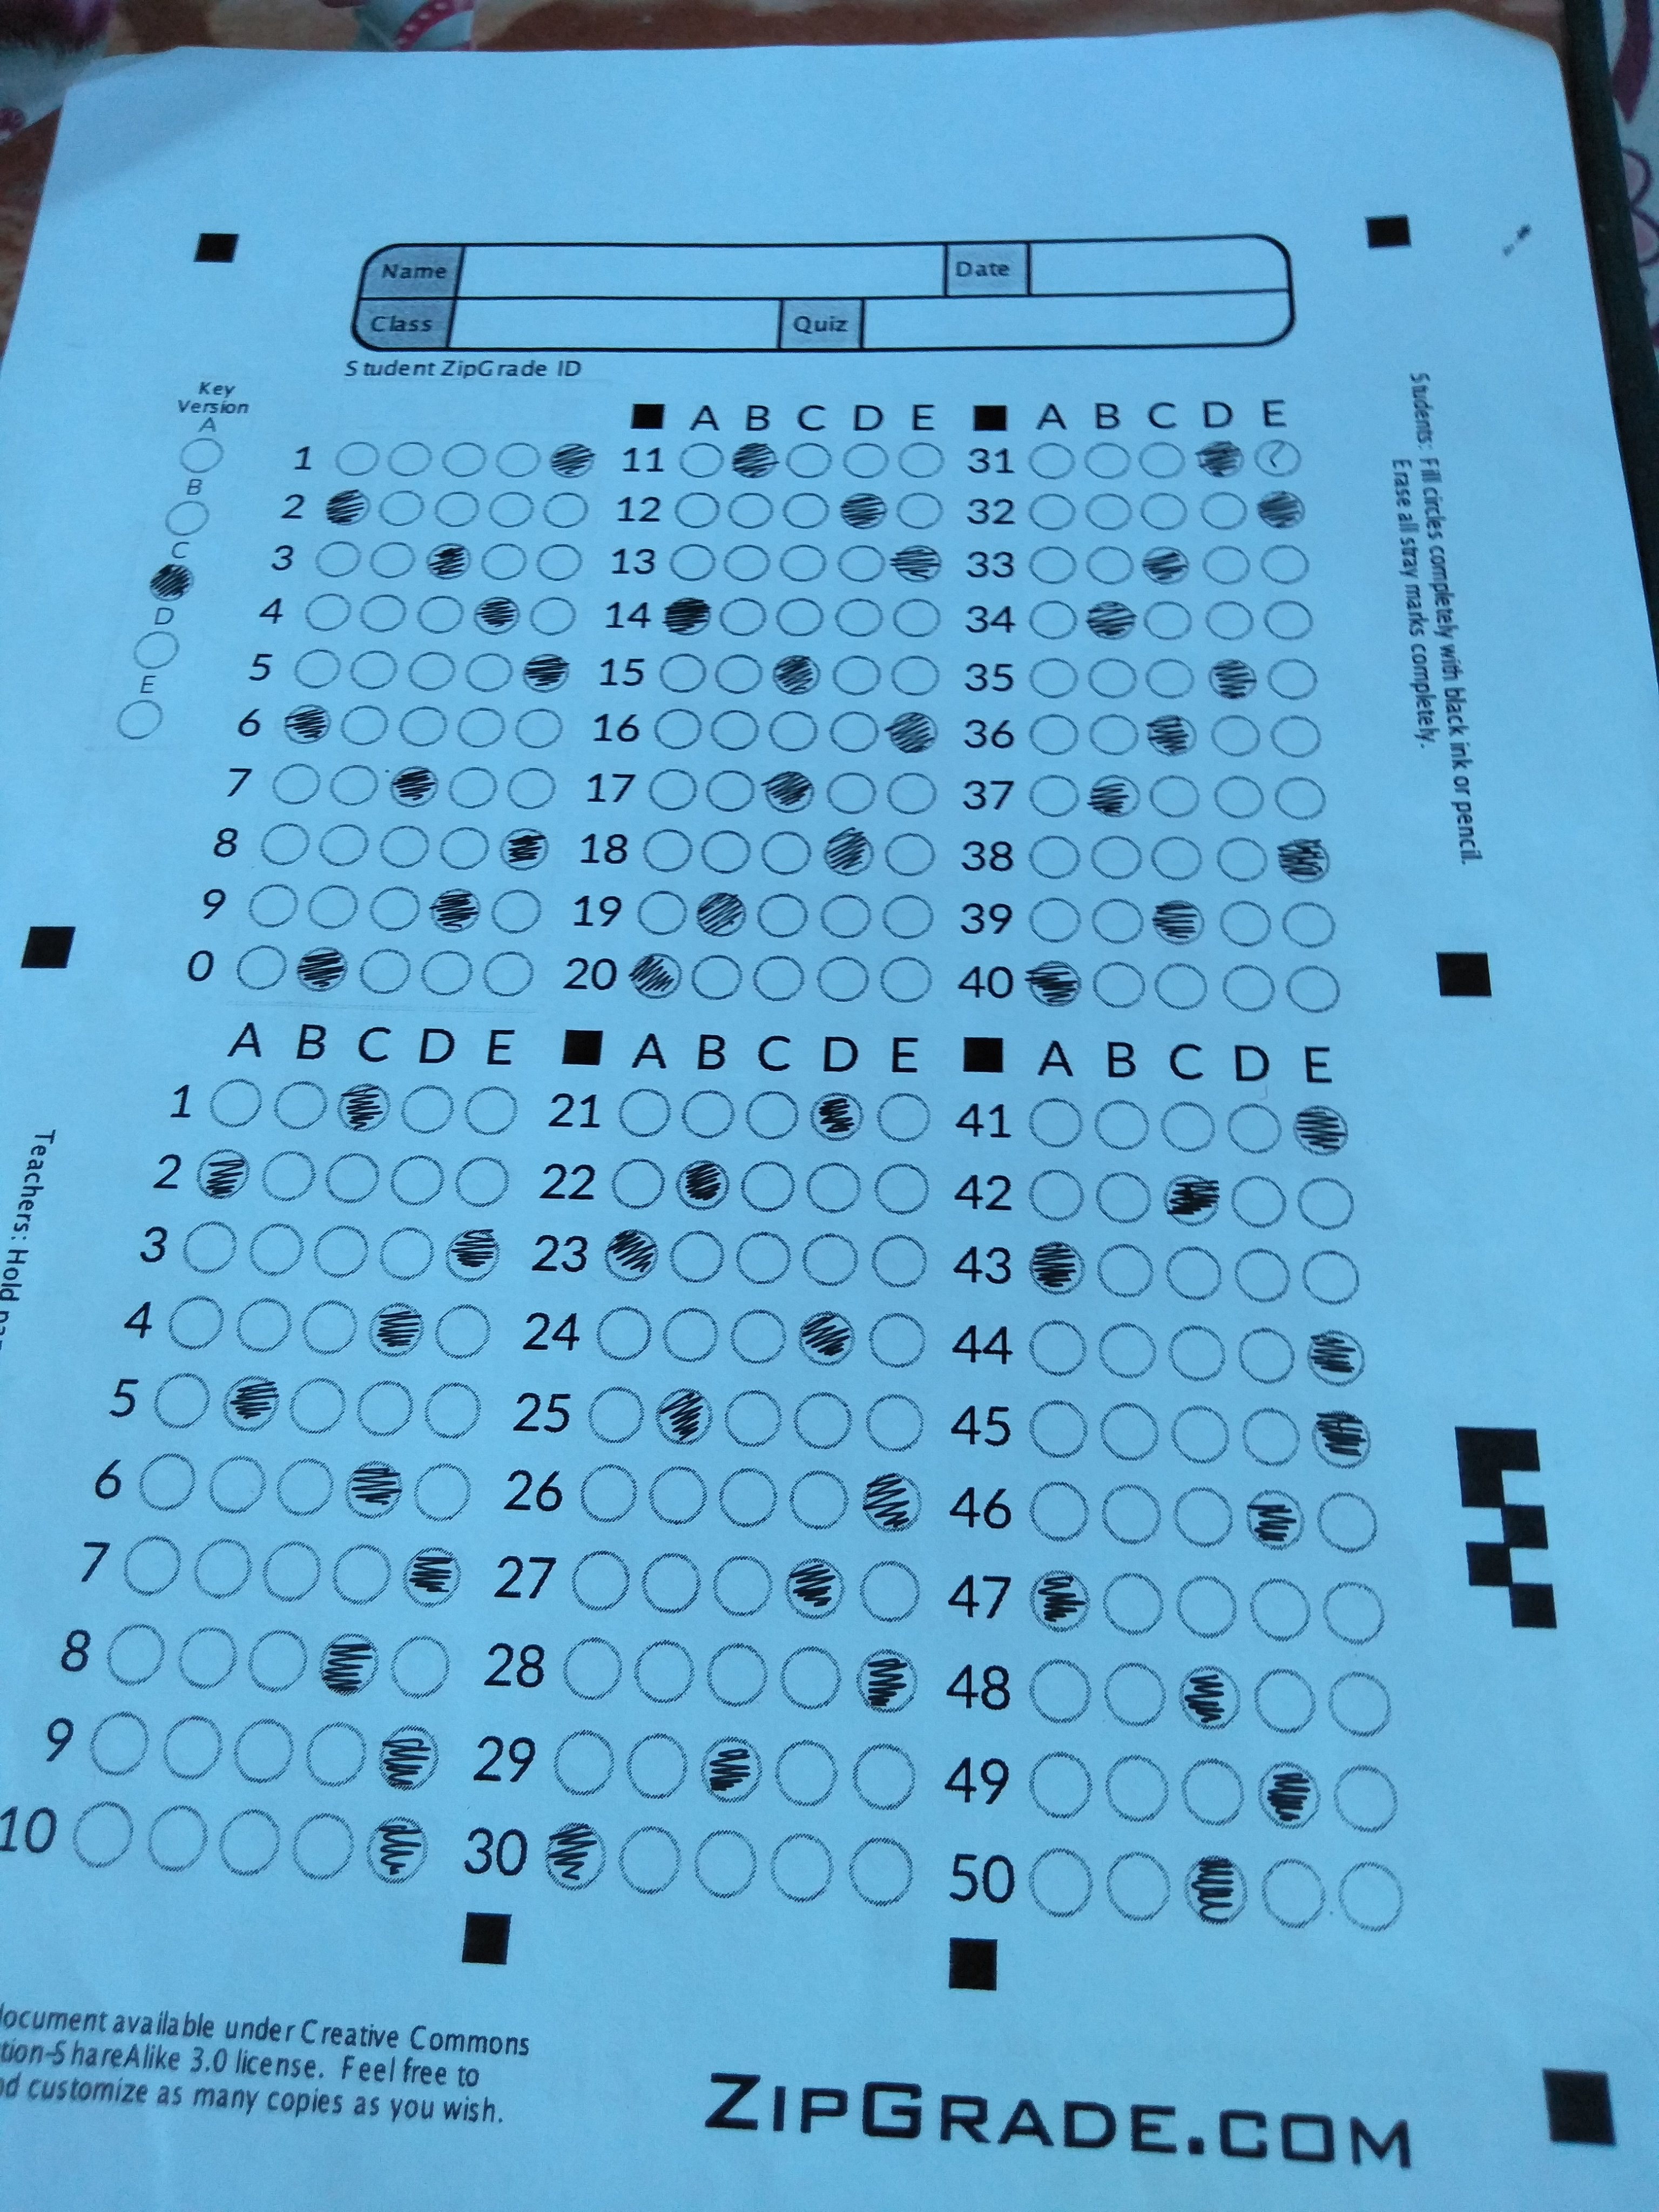not-c: (690, 1825, 765, 1900), (134, 1803, 209, 1878), (558, 1635, 633, 1710), (1243, 1573, 1317, 1648), (1309, 1482, 1384, 1557), (1096, 1750, 1171, 1825), (1256, 1855, 1331, 1930), (1335, 1855, 1410, 1930), (80, 1707, 153, 1784), (775, 1635, 849, 1712), (1321, 1575, 1394, 1651), (1019, 1651, 1093, 1728), (66, 1799, 139, 1874), (767, 1831, 840, 1905), (843, 1831, 917, 1905), (613, 1825, 687, 1900), (101, 1616, 174, 1691), (117, 1531, 190, 1606), (162, 1712, 235, 1787), (173, 1623, 246, 1698), (188, 1534, 261, 1609), (225, 1714, 298, 1789), (239, 1627, 312, 1702), (254, 1534, 328, 1609), (385, 1632, 458, 1707), (324, 1538, 397, 1613), (300, 1719, 373, 1794), (288, 1813, 361, 1888), (213, 1808, 286, 1883), (568, 1545, 641, 1620), (551, 1724, 624, 1799), (850, 1743, 924, 1818), (775, 1737, 849, 1811), (622, 1730, 695, 1804), (708, 1550, 781, 1625), (701, 1634, 774, 1709), (634, 1545, 708, 1620), (627, 1630, 701, 1705), (852, 1554, 925, 1629), (1026, 1844, 1100, 1919), (1169, 1571, 1243, 1646), (1100, 1655, 1173, 1730), (1249, 1665, 1323, 1740), (1326, 1763, 1399, 1838), (1323, 1669, 1396, 1743), (1025, 1752, 1098, 1827), (1173, 1757, 1246, 1832), (1100, 1846, 1173, 1921), (1094, 1477, 1168, 1552), (1171, 1477, 1244, 1552), (1236, 1399, 1309, 1474), (1023, 1475, 1096, 1543), (1169, 1400, 1243, 1468), (1091, 1392, 1164, 1460), (1019, 1393, 1091, 1461), (1098, 1568, 1162, 1642), (132, 1449, 202, 1512), (275, 1454, 345, 1517), (307, 1217, 376, 1280), (204, 1451, 274, 1514), (664, 1226, 734, 1289), (863, 1392, 932, 1454), (355, 1376, 423, 1439), (284, 1371, 352, 1433), (300, 1298, 368, 1360), (242, 1217, 310, 1280), (160, 1289, 228, 1352), (709, 1465, 777, 1527), (718, 1386, 786, 1449), (723, 1305, 791, 1367), (657, 1305, 725, 1367), (577, 1460, 645, 1522), (871, 1228, 939, 1291), (875, 1155, 943, 1217), (784, 1468, 852, 1531), (793, 1392, 861, 1454), (234, 1298, 303, 1359), (796, 1230, 864, 1291), (373, 1224, 441, 1285), (150, 1371, 218, 1432), (178, 1217, 246, 1278), (638, 1465, 706, 1526), (866, 1305, 934, 1366), (732, 1224, 795, 1285), (1100, 1320, 1164, 1379), (1297, 1249, 1363, 1306), (1159, 1245, 1225, 1303), (1023, 1092, 1087, 1150), (1215, 958, 1279, 1015), (1093, 1162, 1157, 1219), (1094, 1097, 1159, 1155), (1093, 1242, 1157, 1299), (1164, 1324, 1229, 1381), (1157, 1097, 1222, 1155), (1232, 1327, 1297, 1385), (1232, 1247, 1297, 1305), (1225, 1172, 1290, 1230), (1220, 1099, 1284, 1157), (1293, 1172, 1358, 1230), (1023, 1318, 1087, 1376), (1025, 1165, 1089, 1223), (1145, 770, 1208, 827), (1215, 897, 1277, 954), (1150, 956, 1213, 1014), (1267, 712, 1330, 770), (1270, 770, 1333, 827), (1087, 958, 1148, 1015), (1206, 707, 1267, 765), (1284, 961, 1347, 1017), (1148, 829, 1211, 885), (1209, 836, 1272, 892), (1276, 897, 1338, 953), (875, 1094, 939, 1148), (606, 1157, 671, 1211), (315, 1151, 380, 1205), (253, 1148, 317, 1202), (1025, 892, 1086, 948), (1084, 894, 1145, 949), (1209, 773, 1270, 829), (460, 1083, 523, 1137), (805, 1160, 868, 1214), (587, 1303, 650, 1357), (741, 1092, 803, 1146), (610, 1089, 673, 1143), (387, 1153, 450, 1207), (202, 1073, 265, 1127), (267, 1075, 329, 1129), (396, 1083, 458, 1137), (410, 1467, 472, 1521), (450, 1155, 512, 1209), (739, 1162, 802, 1214), (587, 1388, 650, 1440), (671, 1087, 734, 1139), (420, 1385, 483, 1437), (434, 1306, 497, 1359), (634, 826, 695, 873), (880, 894, 941, 941), (878, 951, 939, 998), (812, 954, 873, 1001), (746, 953, 807, 1000), (688, 953, 749, 1000), (697, 827, 758, 874), (697, 768, 758, 815), (756, 831, 817, 878), (631, 890, 692, 937), (882, 831, 943, 878), (887, 766, 948, 813), (823, 768, 884, 815), (749, 890, 810, 937), (817, 894, 878, 941), (1089, 833, 1143, 883), (1028, 711, 1082, 761), (1026, 773, 1080, 824), (1028, 834, 1082, 885), (1080, 538, 1134, 589), (1253, 428, 1307, 479), (1077, 488, 1131, 538), (1079, 432, 1133, 482), (1145, 655, 1199, 705), (1136, 486, 1190, 536), (1133, 437, 1187, 488), (1258, 538, 1312, 589), (1025, 540, 1079, 590), (1021, 484, 1075, 535), (1086, 651, 1140, 702), (1025, 651, 1079, 702), (1087, 711, 1140, 761), (1141, 594, 1194, 644), (1204, 594, 1256, 644), (1025, 435, 1079, 484), (1199, 538, 1253, 587), (1265, 653, 1319, 702), (1030, 589, 1084, 637), (1263, 597, 1316, 646), (298, 589, 354, 634), (493, 439, 549, 484), (383, 437, 439, 482), (174, 435, 230, 481), (464, 651, 519, 697), (474, 538, 530, 583), (526, 597, 582, 643), (484, 489, 540, 535), (535, 538, 591, 583), (727, 491, 782, 536), (368, 540, 423, 585), (890, 651, 946, 697), (765, 707, 821, 752), (779, 491, 835, 536), (502, 768, 558, 813), (636, 763, 692, 808), (246, 885, 301, 930), (293, 646, 347, 691), (312, 540, 366, 585), (439, 439, 493, 484), (333, 439, 387, 484), (129, 632, 183, 678), (157, 498, 211, 543), (415, 590, 469, 636), (457, 704, 511, 749), (516, 707, 570, 752), (708, 707, 762, 752), (713, 651, 767, 697), (664, 542, 718, 587), (718, 594, 772, 639), (653, 707, 708, 752), (720, 538, 774, 583), (669, 488, 723, 533), (680, 439, 734, 484), (338, 704, 392, 749), (350, 648, 404, 693), (397, 705, 451, 751), (890, 597, 945, 643), (831, 596, 885, 641), (777, 540, 831, 585), (788, 439, 842, 484), (826, 709, 880, 754), (829, 651, 884, 697), (368, 887, 422, 932), (378, 824, 432, 869), (418, 949, 472, 995), (270, 765, 324, 810), (357, 948, 411, 993), (113, 700, 169, 744), (544, 489, 599, 533), (403, 650, 458, 693), (774, 599, 829, 643), (842, 441, 897, 484), (894, 441, 950, 484), (490, 888, 545, 932), (434, 829, 490, 873), (235, 944, 291, 988), (448, 768, 502, 812), (434, 489, 488, 533), (655, 650, 709, 693), (357, 596, 411, 639), (378, 486, 432, 529), (833, 540, 887, 583), (479, 953, 533, 996), (307, 883, 361, 927), (317, 824, 371, 867), (328, 765, 382, 808), (258, 824, 312, 867), (894, 489, 948, 533), (1199, 488, 1249, 531)
taken-c: (364, 1815, 434, 1883), (1025, 1566, 1094, 1634), (777, 1554, 845, 1622), (373, 1721, 441, 1789), (315, 1629, 383, 1696), (542, 1824, 610, 1892), (695, 1737, 763, 1804), (1256, 1763, 1324, 1831), (1176, 1665, 1244, 1733), (1185, 1855, 1253, 1923), (1305, 1404, 1373, 1472), (1025, 1233, 1093, 1301), (403, 1547, 471, 1613), (856, 1649, 924, 1716), (859, 1470, 927, 1536), (1302, 1324, 1370, 1390), (1243, 1487, 1310, 1554), (1284, 1101, 1352, 1167), (1159, 1169, 1227, 1228), (652, 1390, 718, 1447), (342, 1461, 408, 1515), (795, 1312, 861, 1366), (805, 1094, 871, 1148), (190, 1148, 254, 1202), (221, 1378, 286, 1432), (601, 1228, 666, 1282), (673, 1158, 737, 1212), (364, 1303, 429, 1357), (444, 1226, 509, 1280), (1270, 838, 1333, 888), (694, 888, 755, 939), (333, 1085, 394, 1136), (291, 946, 352, 996), (423, 885, 484, 935), (624, 953, 685, 1003), (1023, 960, 1084, 1010), (1206, 650, 1267, 700), (1141, 712, 1202, 763), (1082, 772, 1143, 822), (1152, 895, 1213, 946), (1084, 596, 1141, 644), (1256, 486, 1314, 535), (1194, 435, 1249, 482), (1133, 542, 1188, 589), (659, 596, 714, 641), (889, 536, 945, 582), (728, 439, 784, 484), (383, 763, 439, 808), (772, 653, 826, 698), (836, 491, 890, 536), (423, 540, 477, 585), (141, 563, 195, 608), (763, 770, 817, 815), (544, 437, 599, 481), (495, 827, 551, 871), (521, 653, 577, 697), (824, 829, 880, 873), (279, 704, 333, 747), (472, 594, 526, 637), (322, 486, 376, 529), (887, 711, 941, 754)
